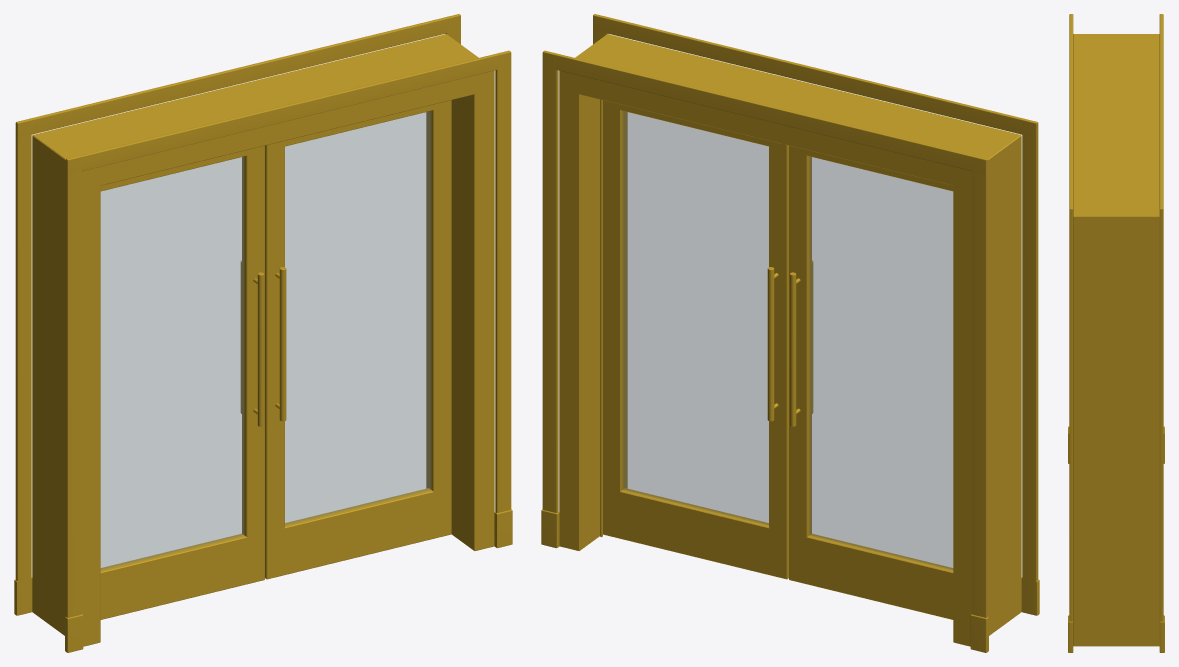
File: prop_door_double_glass_t40.glb
3 views of the same model, side by side, from view 1: azimuth 30°, elevation 25°; view 2: azimuth 150°, elevation 25°; view 3: azimuth 270°, elevation 25° (orthographic). The views are drawn at different scales.
Parts seen in each view (by area): view 1: Frame, LeafMesh2, LeafMesh; view 2: Frame, LeafMesh2, LeafMesh; view 3: Frame.
Part boxes in pixels (x1,y1,x2,y2): Frame: [14, 14, 512, 652]; LeafMesh2: [265, 100, 451, 579]; LeafMesh: [100, 145, 264, 619]; Frame: [541, 14, 1039, 652]; LeafMesh2: [603, 100, 788, 579]; LeafMesh: [789, 145, 953, 619]; Frame: [1068, 14, 1164, 652].
Size of what is drawn, in the model's own units: 2.15 by 2.27 by 0.448.
